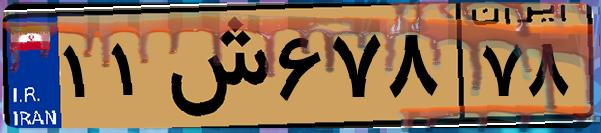1: (57, 26, 110, 100), (110, 28, 158, 98)
6: (270, 28, 330, 110)
7: (330, 28, 385, 110), (475, 38, 525, 113)
8: (385, 28, 445, 110), (525, 38, 570, 115)
ش: (158, 12, 270, 120)
